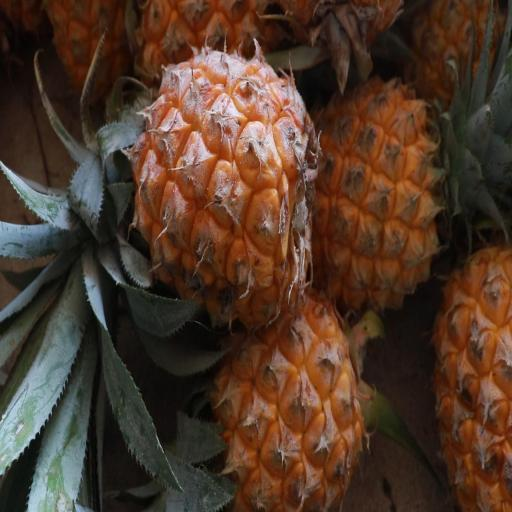Pineapple - v8 v1: (26, 40, 322, 332), (296, 62, 487, 318), (191, 294, 368, 512), (427, 222, 512, 512)
